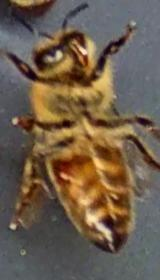varroa_mite: (46, 148, 80, 195)
